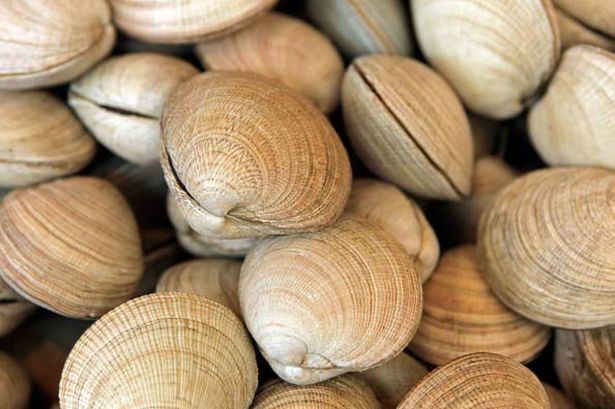cockle: (160, 66, 351, 238), (236, 219, 427, 386), (50, 289, 260, 409), (478, 168, 615, 329), (1, 172, 146, 320), (344, 53, 477, 204), (405, 1, 564, 123), (406, 243, 552, 367), (62, 50, 201, 168), (188, 8, 342, 109), (521, 39, 615, 167), (1, 3, 119, 90), (349, 171, 440, 283), (397, 347, 556, 409), (1, 90, 101, 188), (114, 1, 275, 50), (152, 255, 252, 327), (308, 1, 416, 66), (249, 372, 381, 409), (556, 325, 615, 404)
